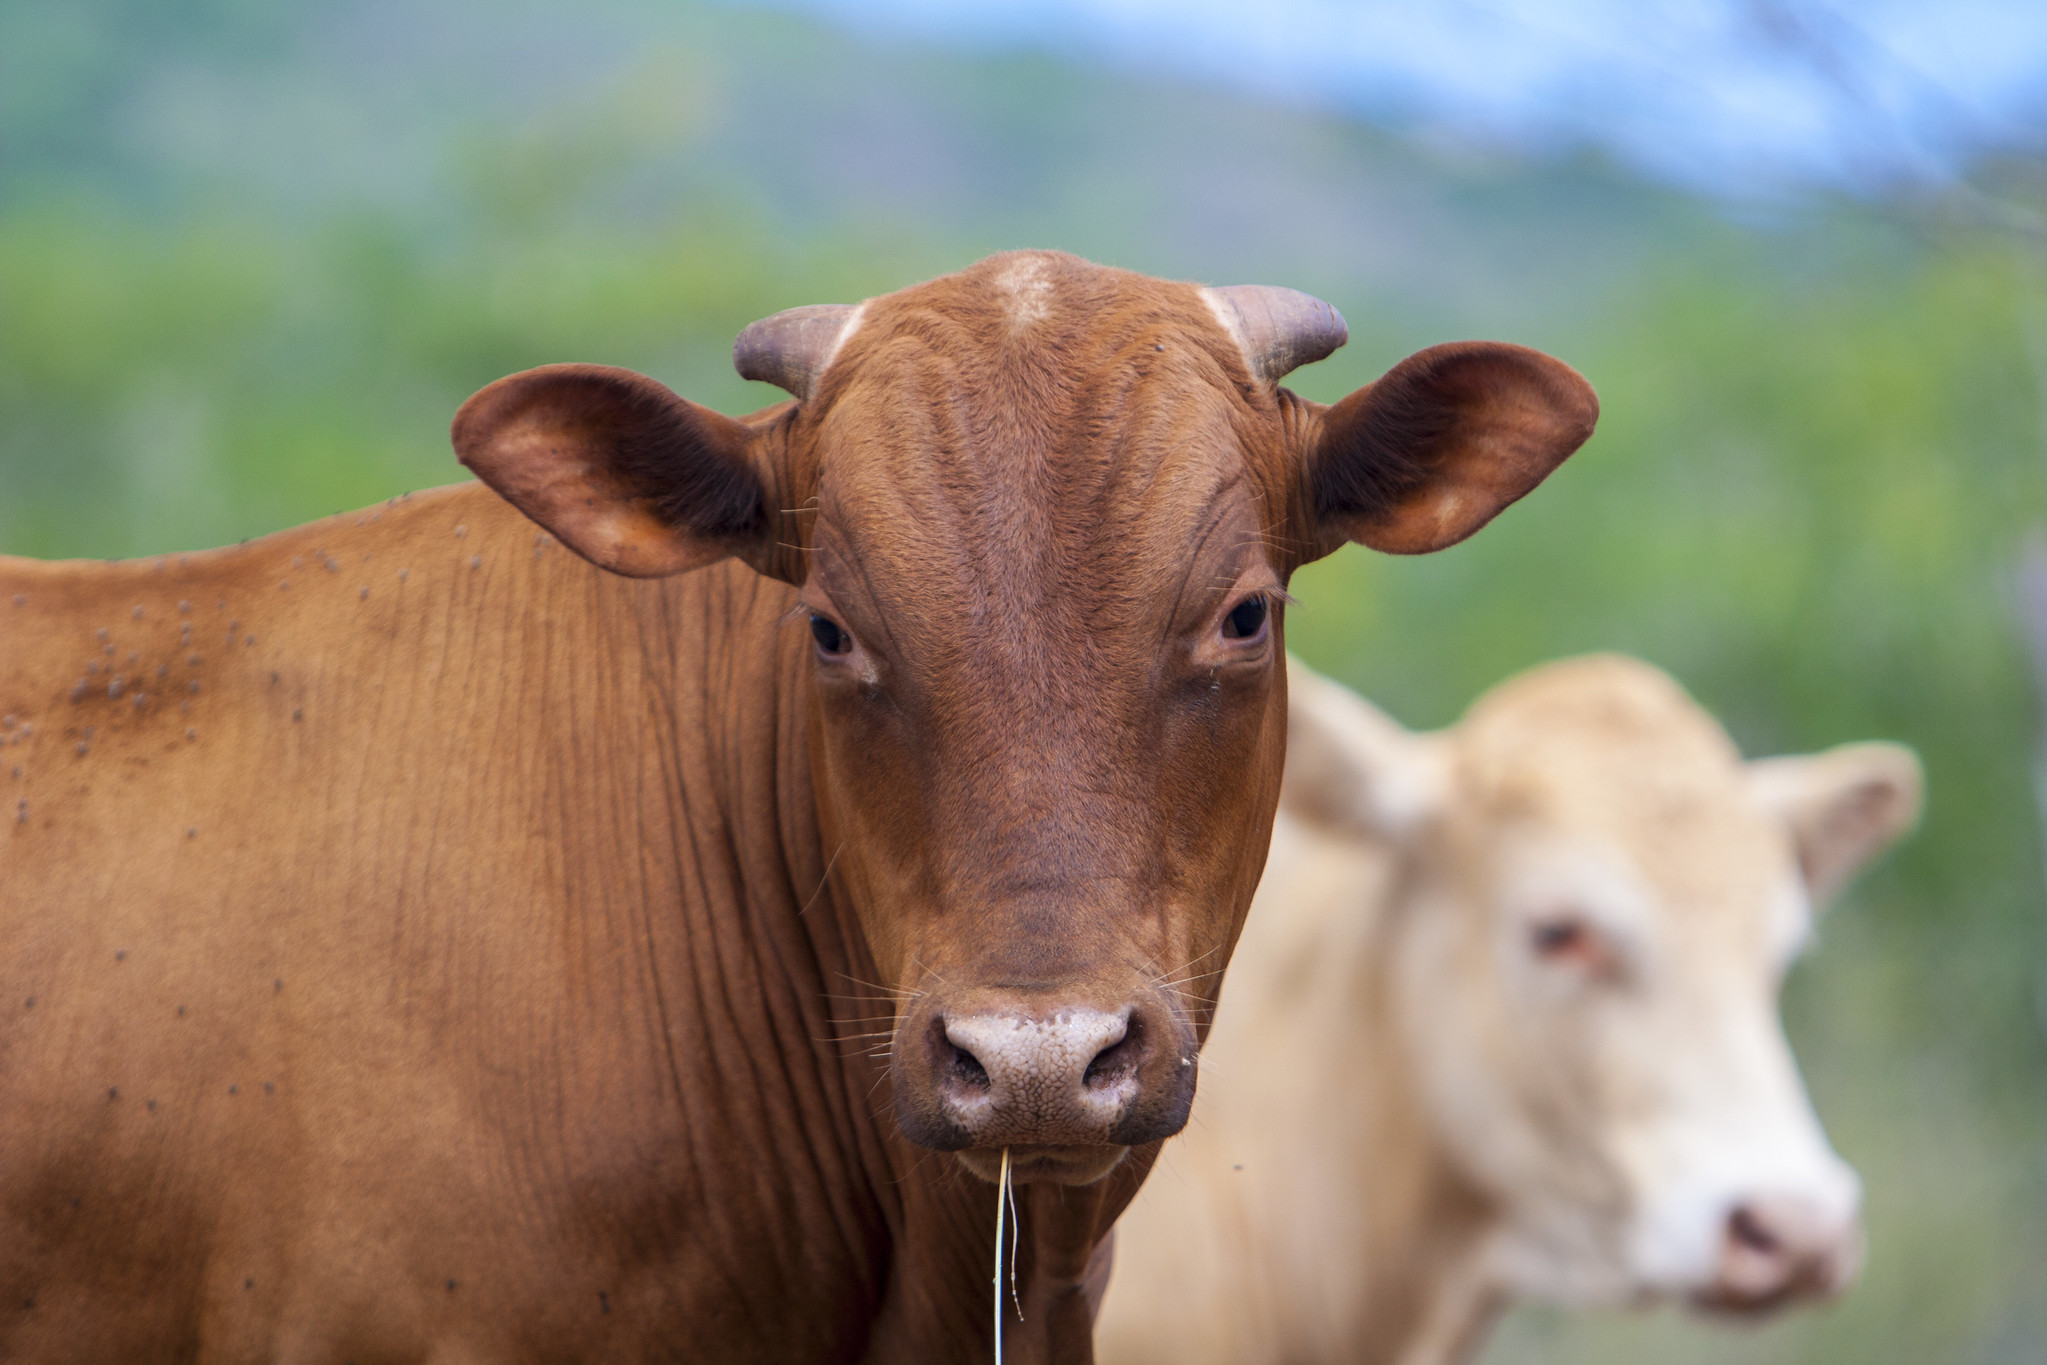cow: (2, 261, 1610, 1348)
